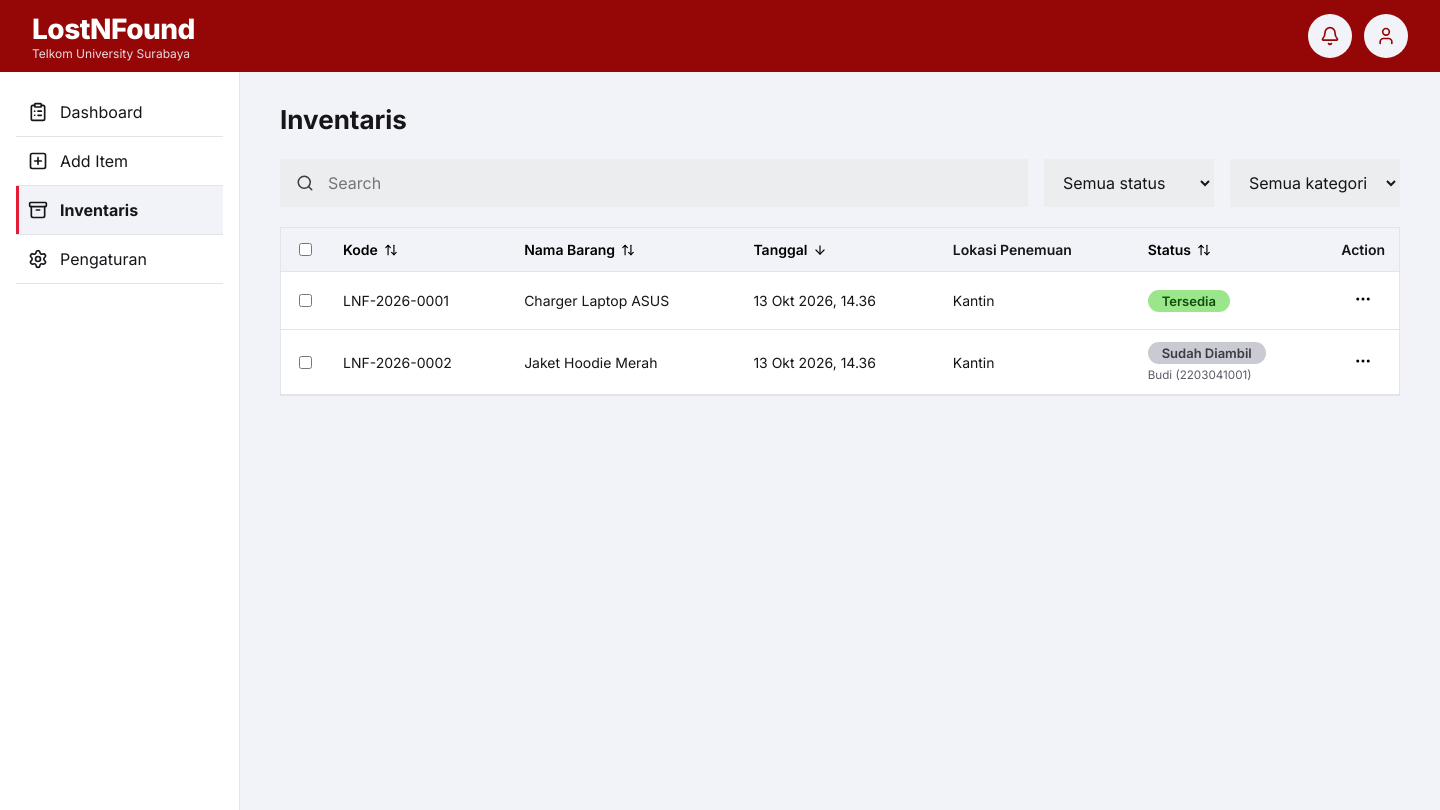
Scenario: inventaris › menghapus barang setelah konfirmasi
The width and height of the screenshot is (1440, 810).
expect the text "Charger Laptop ASUS" is shown: met, box [510,272,739,330]
Click the button named "Aksi untuk Charger Laptop ASUS": (1363, 300) [1348,284,1378,317]
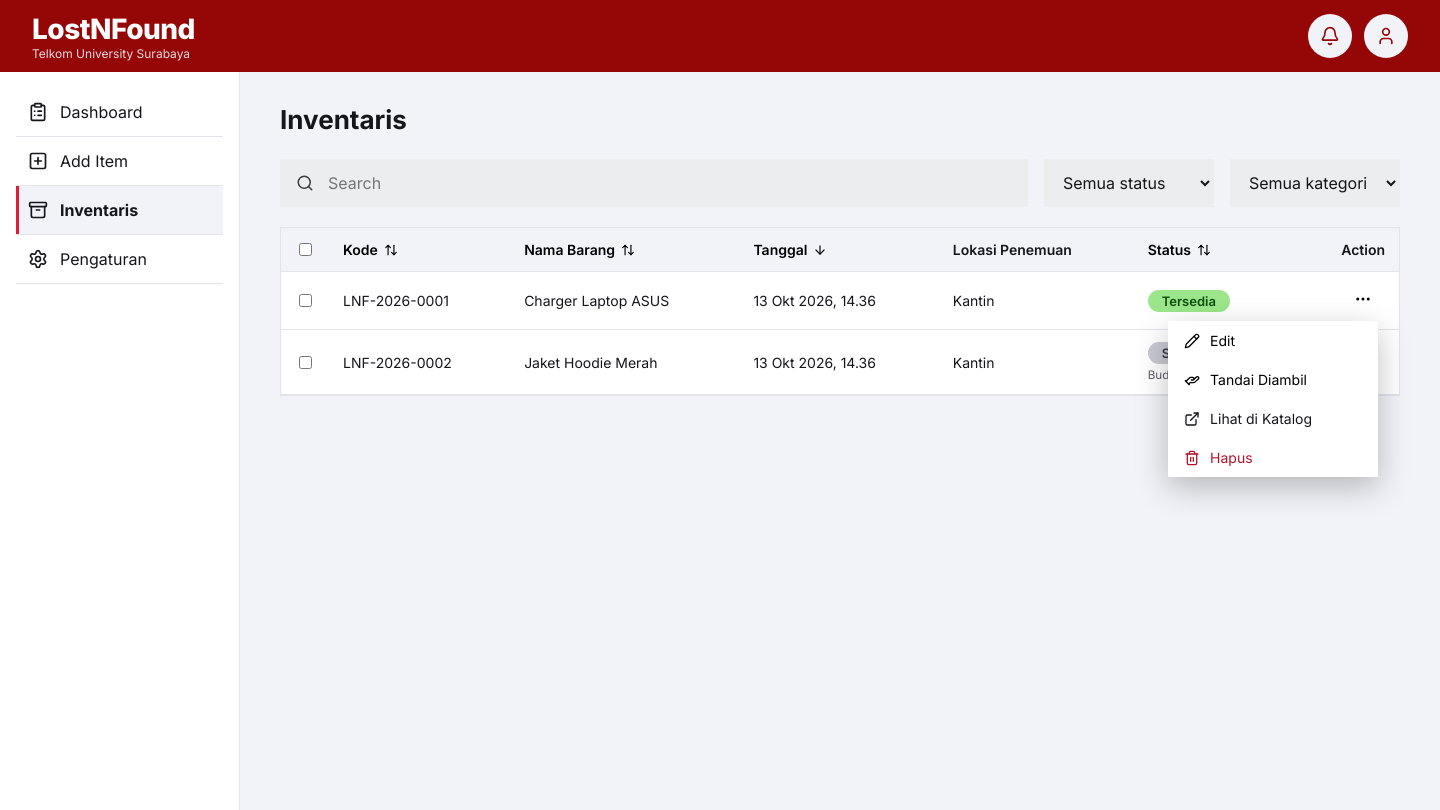
Click the menu item "Hapus": (1273, 458) [1168,438,1378,477]
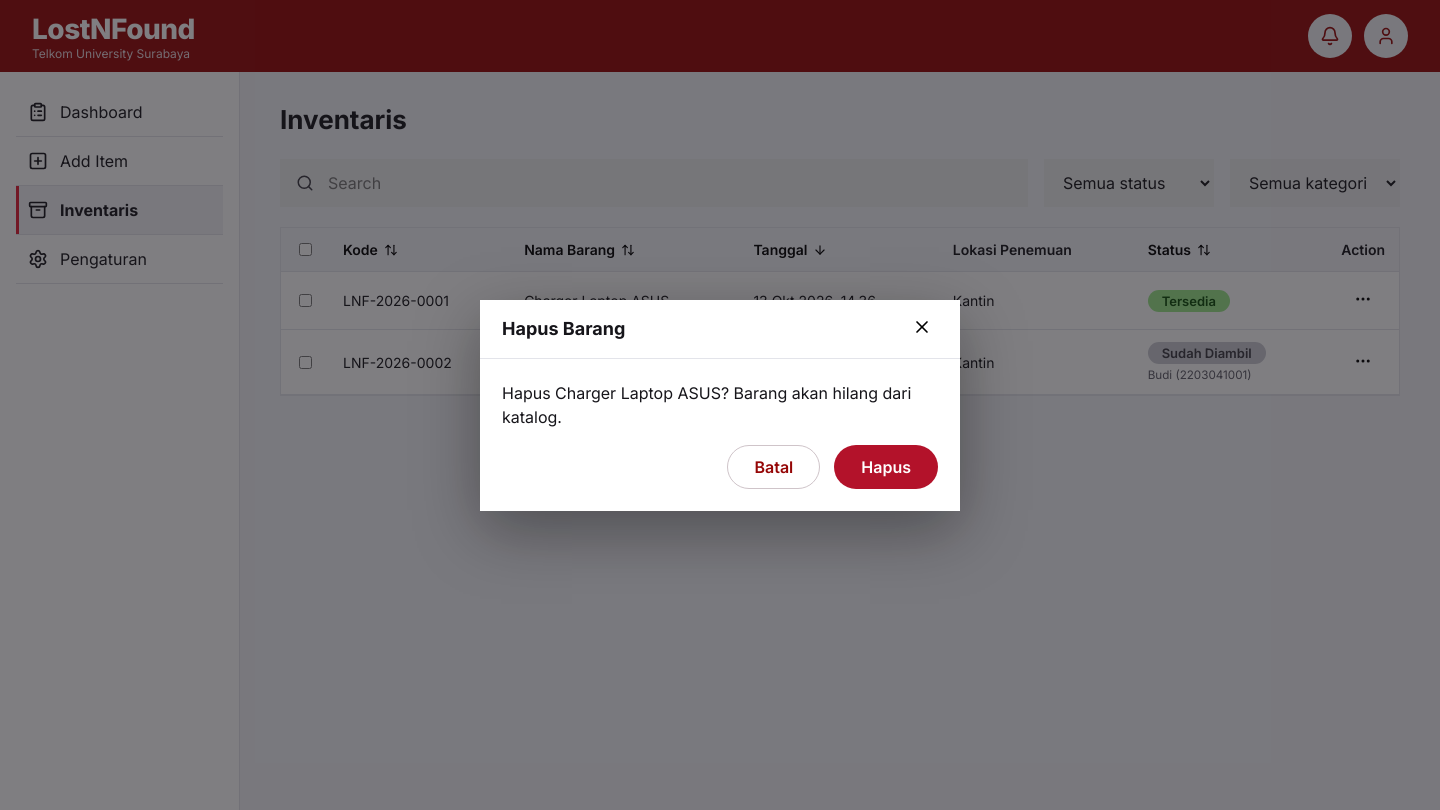
Click the button "Hapus": (886, 466) [834,444,938,488]
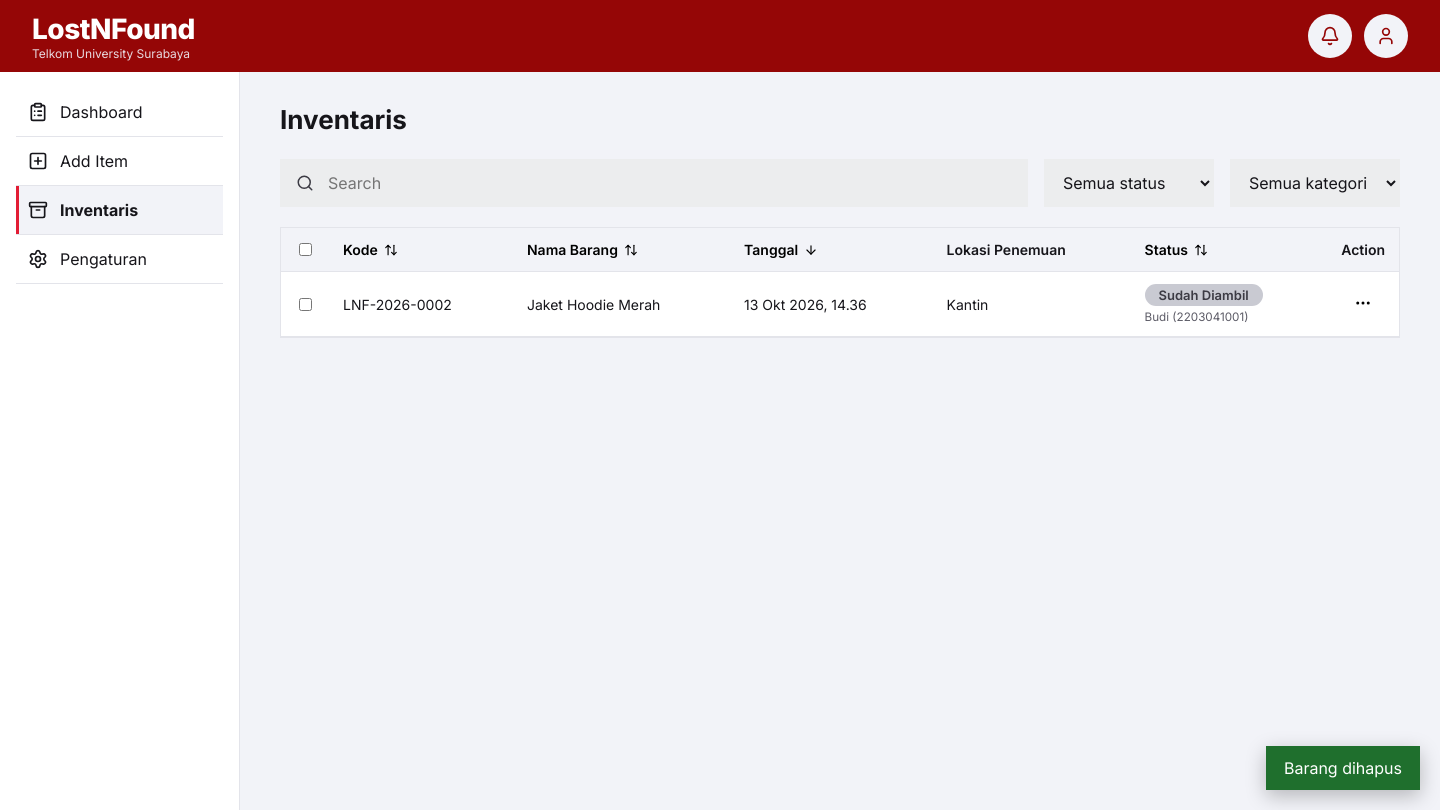
expect the text "Charger Laptop ASUS" is gone: met
